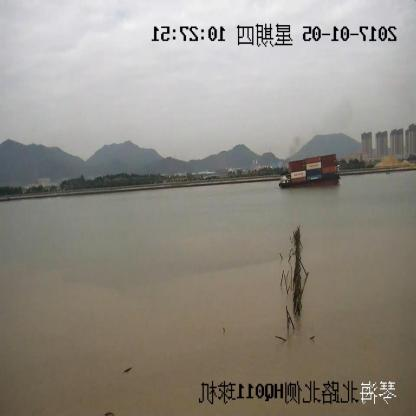Container Ship: (280, 155, 341, 187)
